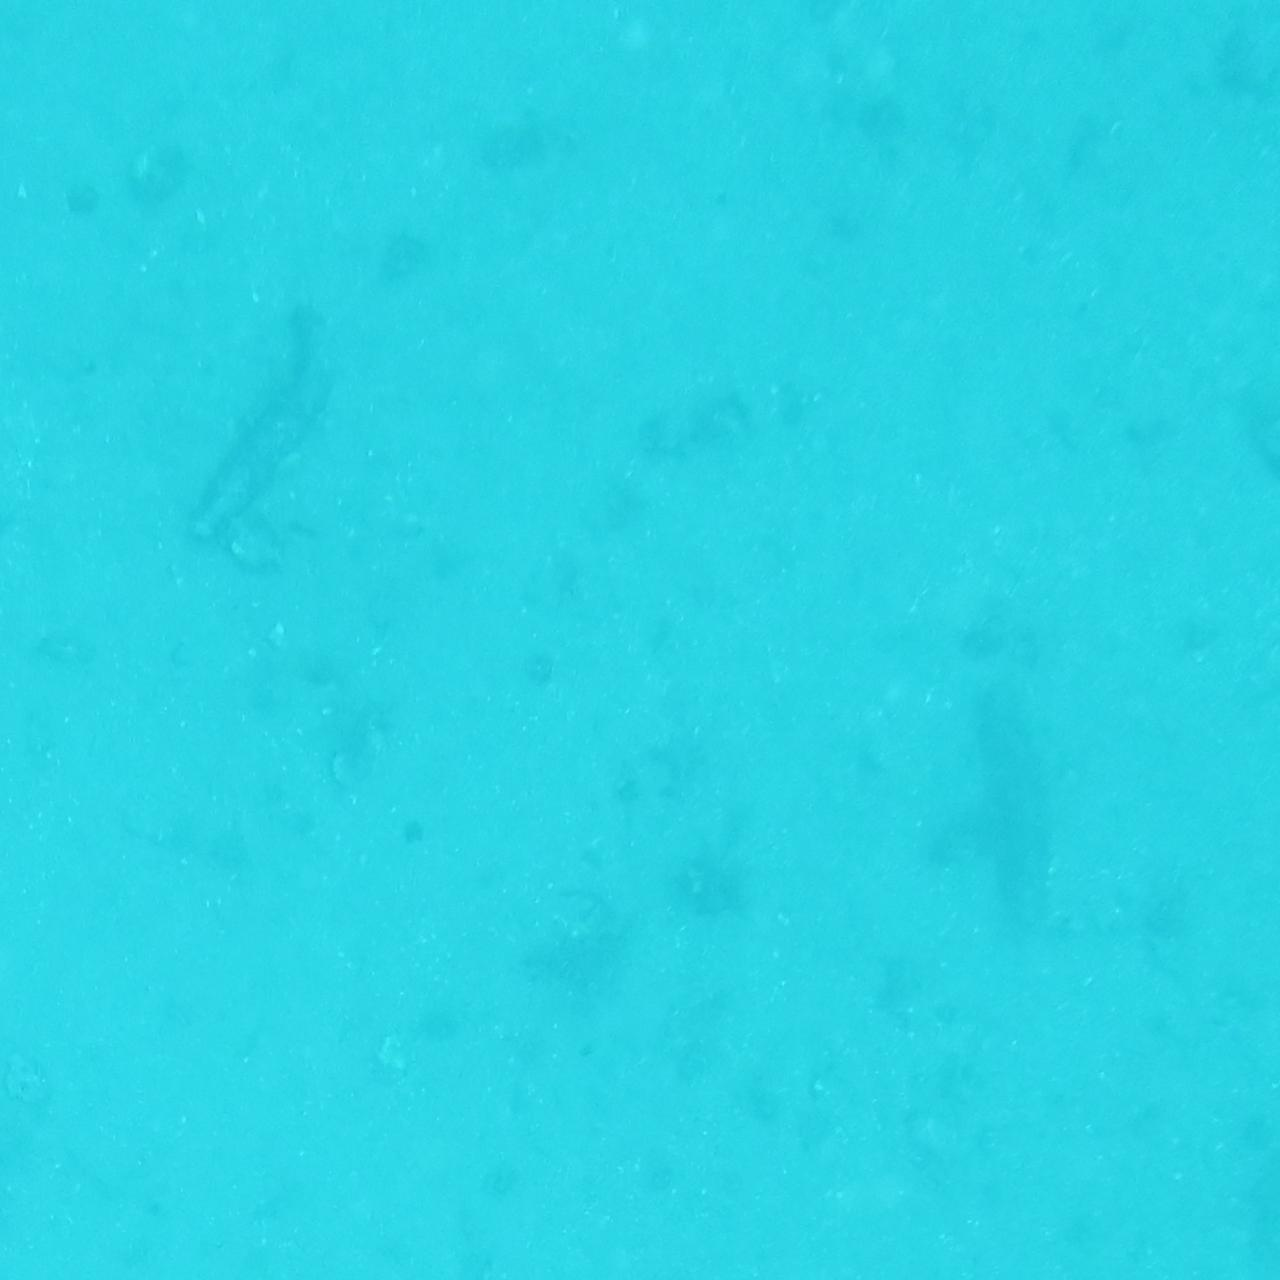Holothuria tubulosa: (190, 319, 345, 576), (962, 680, 1065, 988)
